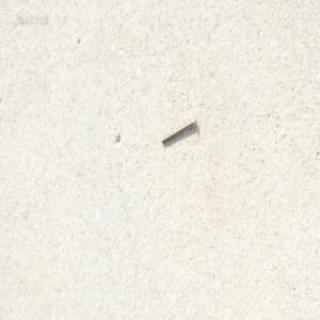Bolttrack_idkeyframe: (159, 114, 195, 144)
